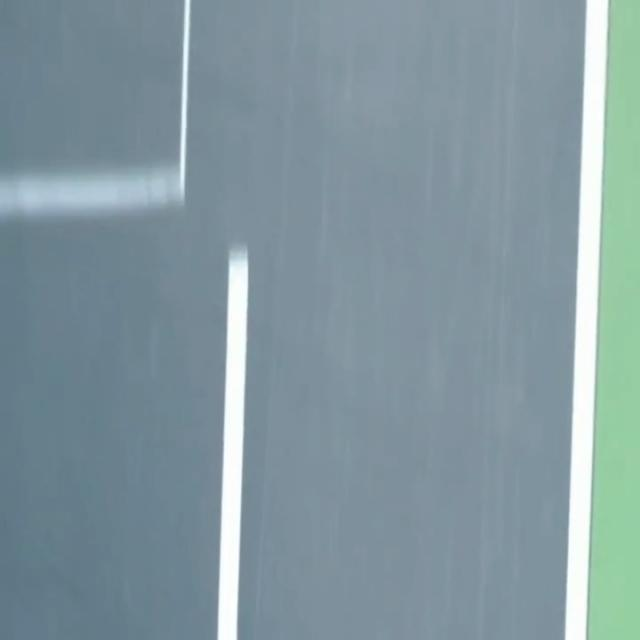center: (217, 247, 248, 639)
right: (564, 0, 608, 639)
